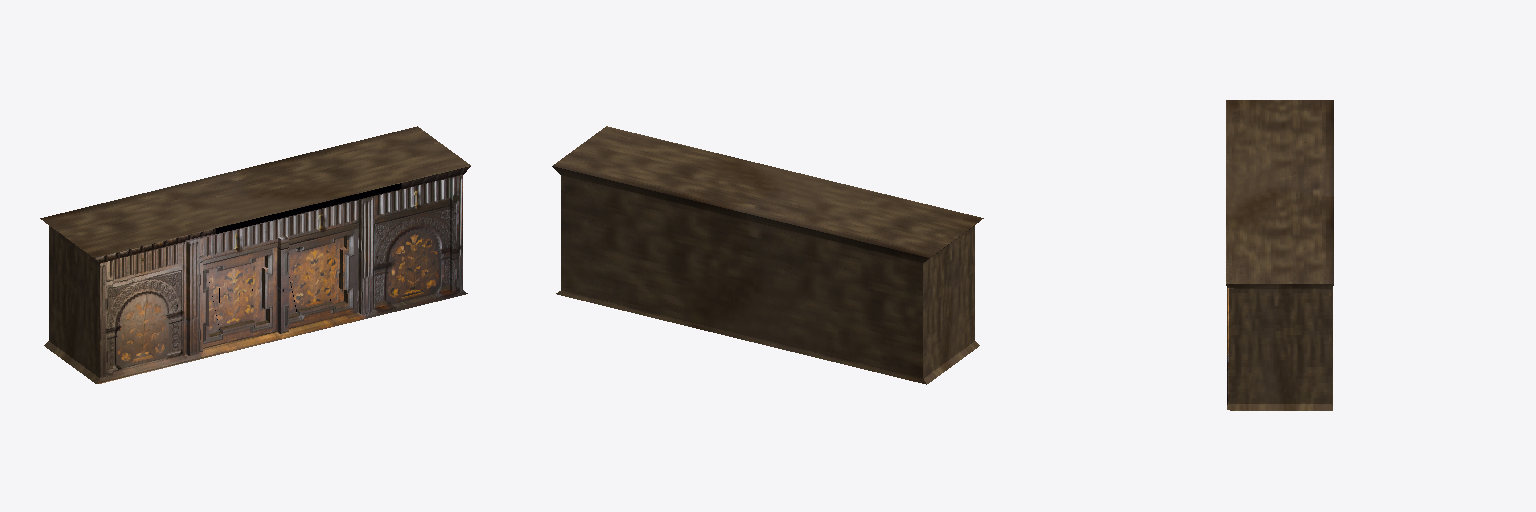
The picture shows the model from 3 angles: view 1: azimuth 30°, elevation 25°; view 2: azimuth 150°, elevation 25°; view 3: azimuth 270°, elevation 25°; orthographic projection.
Parts seen in each view (by area): view 1: furniture1; view 2: furniture1; view 3: furniture1.
Boxes of the visible parts, x1,y1,x2,y2 form: furniture1: [40, 126, 470, 383]; furniture1: [552, 126, 983, 384]; furniture1: [1226, 100, 1333, 410].
Size of the model in its own units: 2.94 by 0.9529 by 0.7326.
1 materials, 1 textured.